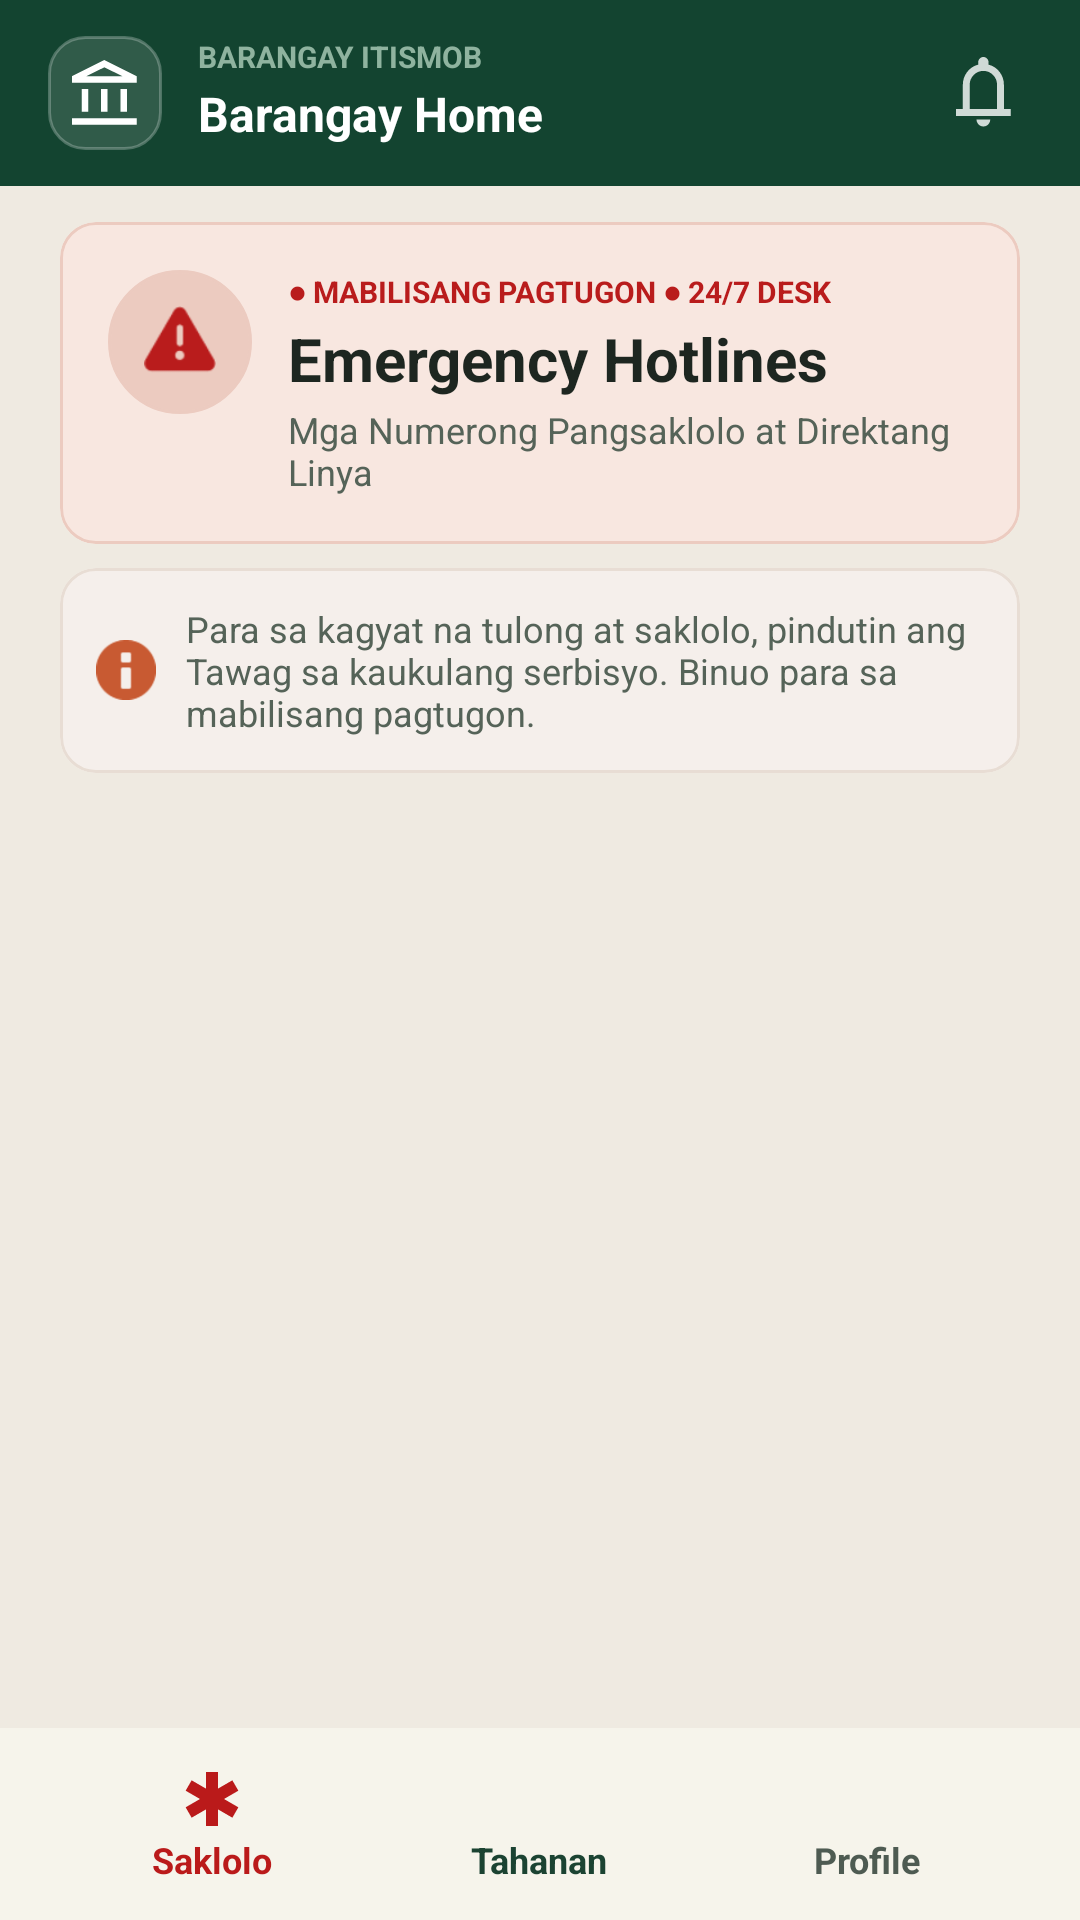

Icon bounding boxes for this 1080x1920 phone screenshot, format (x1, y1, x2, y2):
alert: (144, 306, 216, 372)
asterisk: (185, 1772, 239, 1826)
info: (96, 640, 156, 700)
Notifications: (956, 57, 1011, 127)
